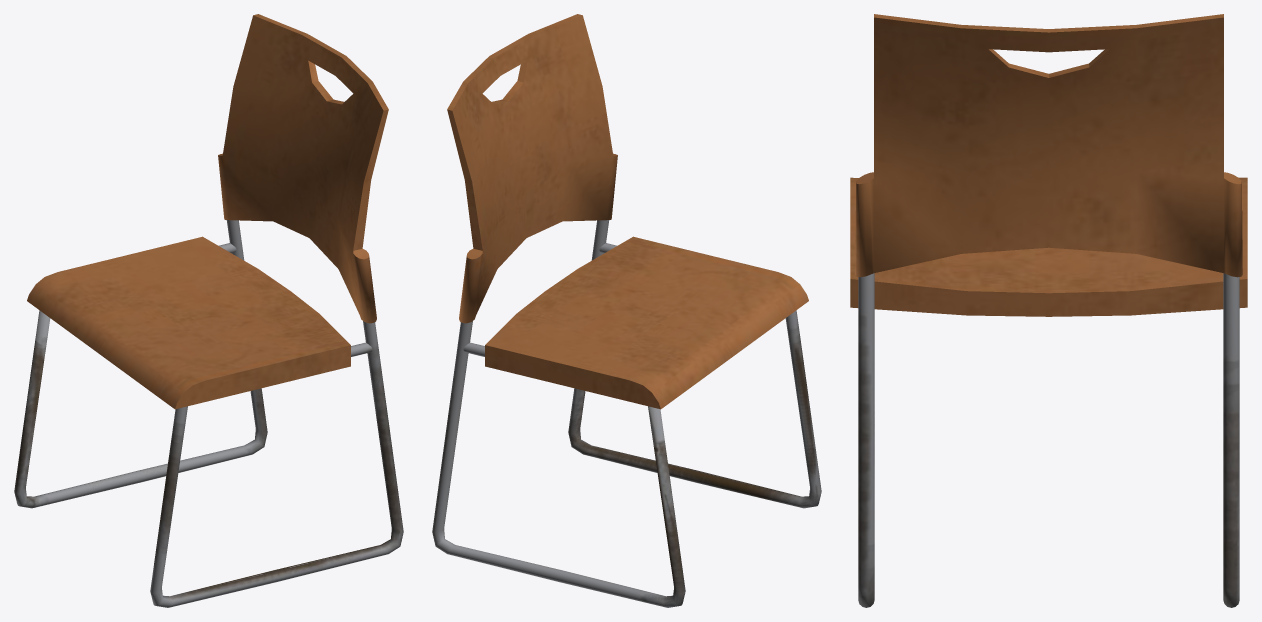
File: chair-classic.glb
3 renders of one model, left to right at view 1: azimuth 30°, elevation 25°; view 2: azimuth 150°, elevation 25°; view 3: azimuth 270°, elevation 25°, orthographic. The views are drawn at different scales.
Parts seen in each view (by area): view 1: Chair.Classic; view 2: Chair.Classic; view 3: Chair.Classic.
Boxes of the visible parts, x1,y1,x2,y2 form: Chair.Classic: (14,14,403,607); Chair.Classic: (432,14,821,607); Chair.Classic: (850,14,1247,607).
Size of the model in its own units: 0.498 by 0.7977 by 0.4847.
Materials: 1 (1 with a texture image).
